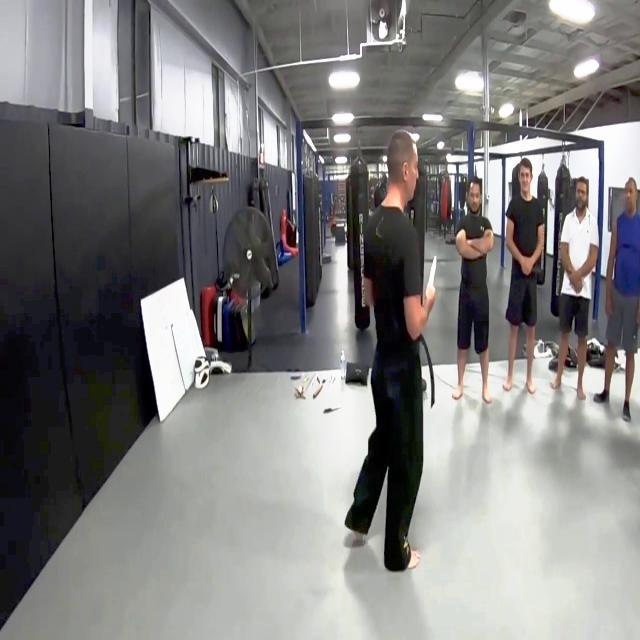Knife: (422, 252, 446, 300)
